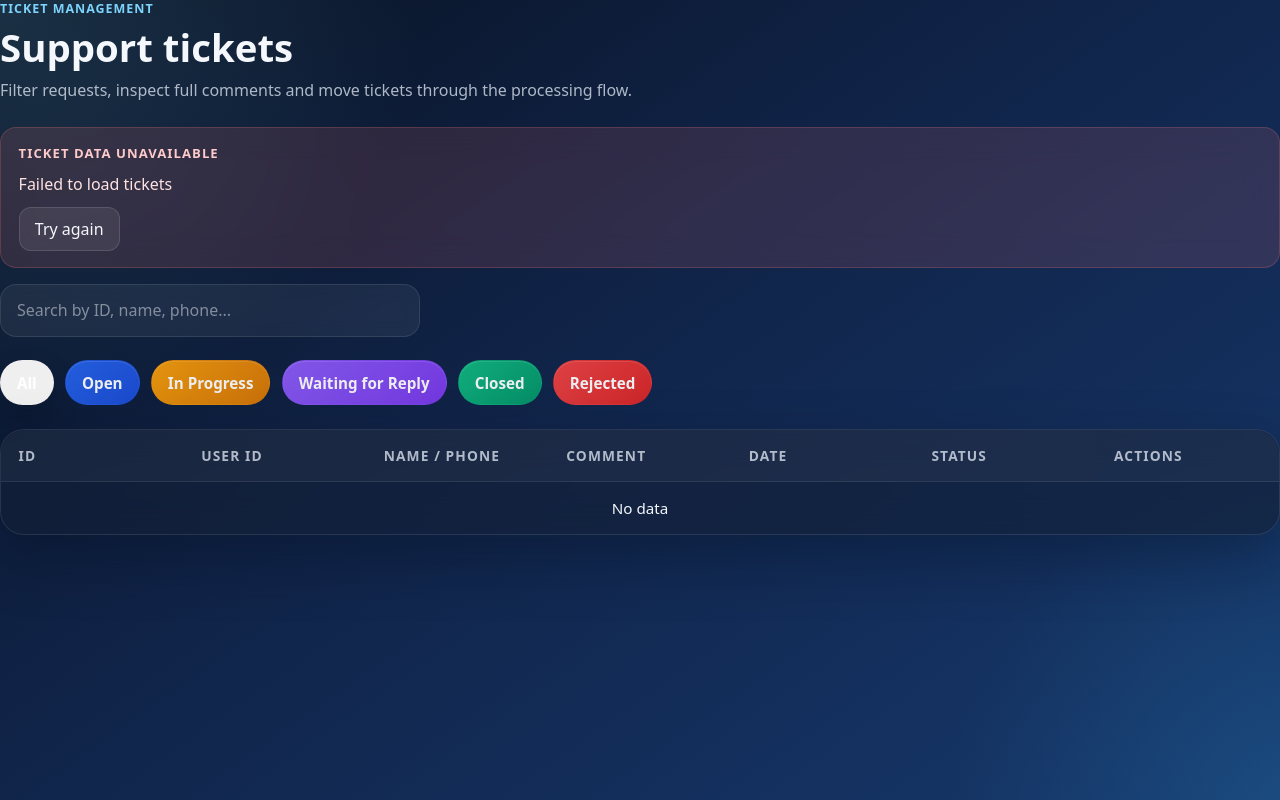
FeedbackTable › retries loading after initial fetch failure
This screenshot has width=1280, height=800.
Expected: the text "Failed to load tickets" is shown, [19,173,172,195]
Click the button "Try again" at (69, 229), box [19,208,120,251]
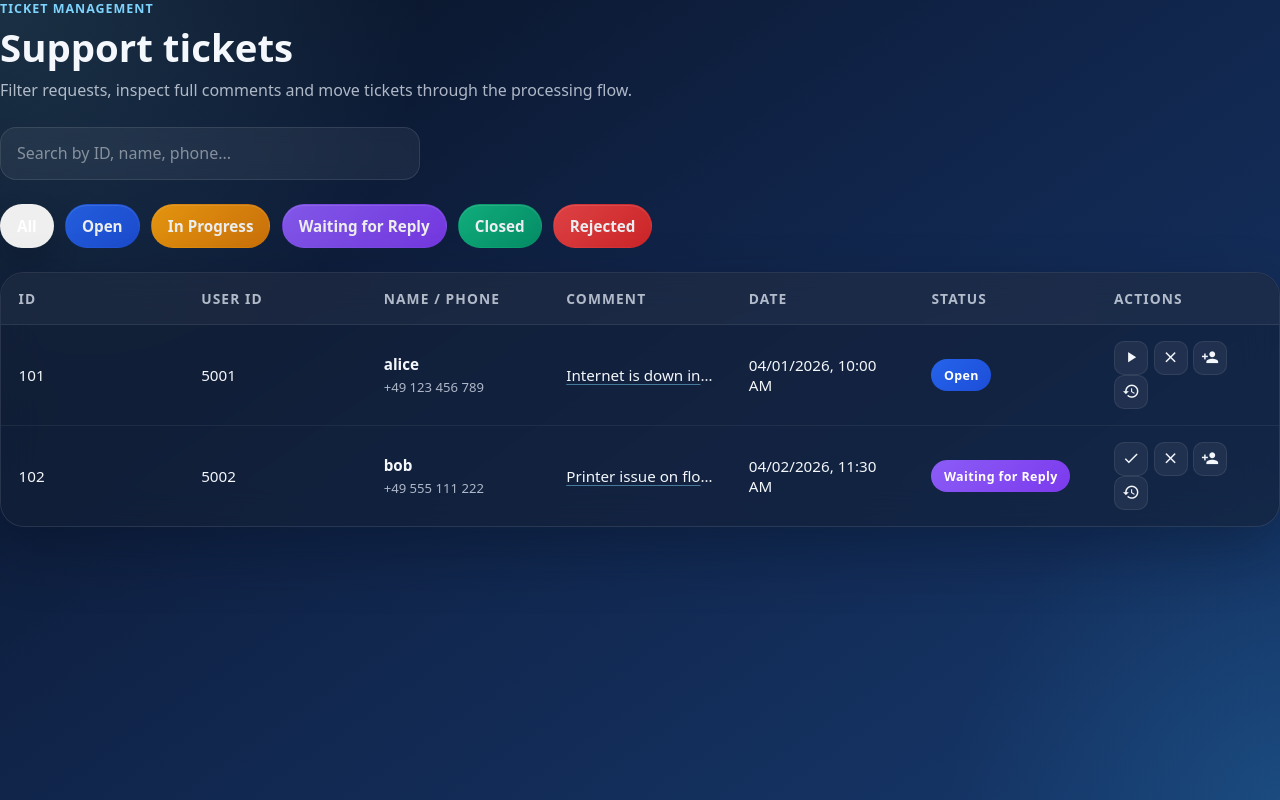
Result: the text "alice" is shown at [384,354,419,374]
